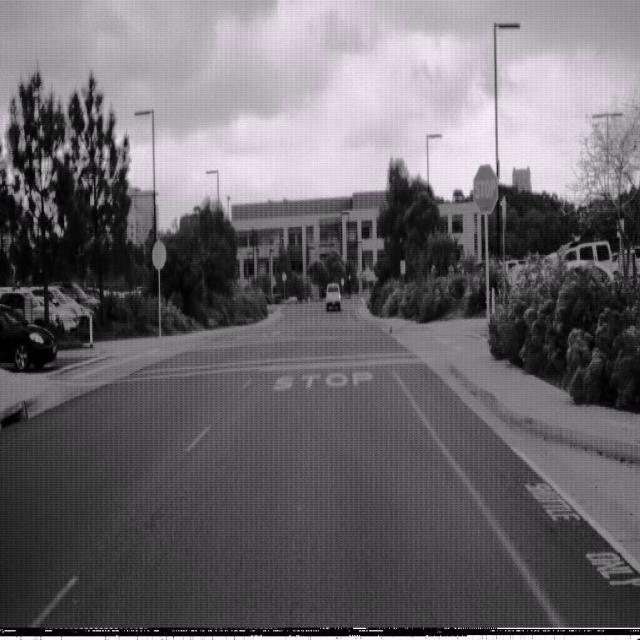stop_sign: (472, 163, 498, 215)
